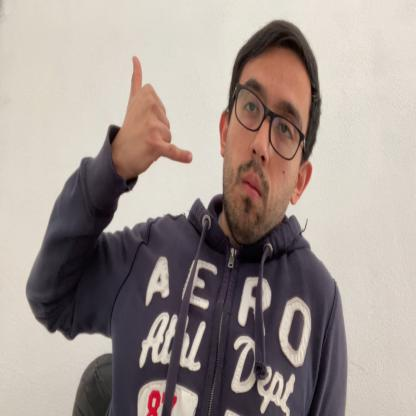Y: (128, 56, 193, 174)
